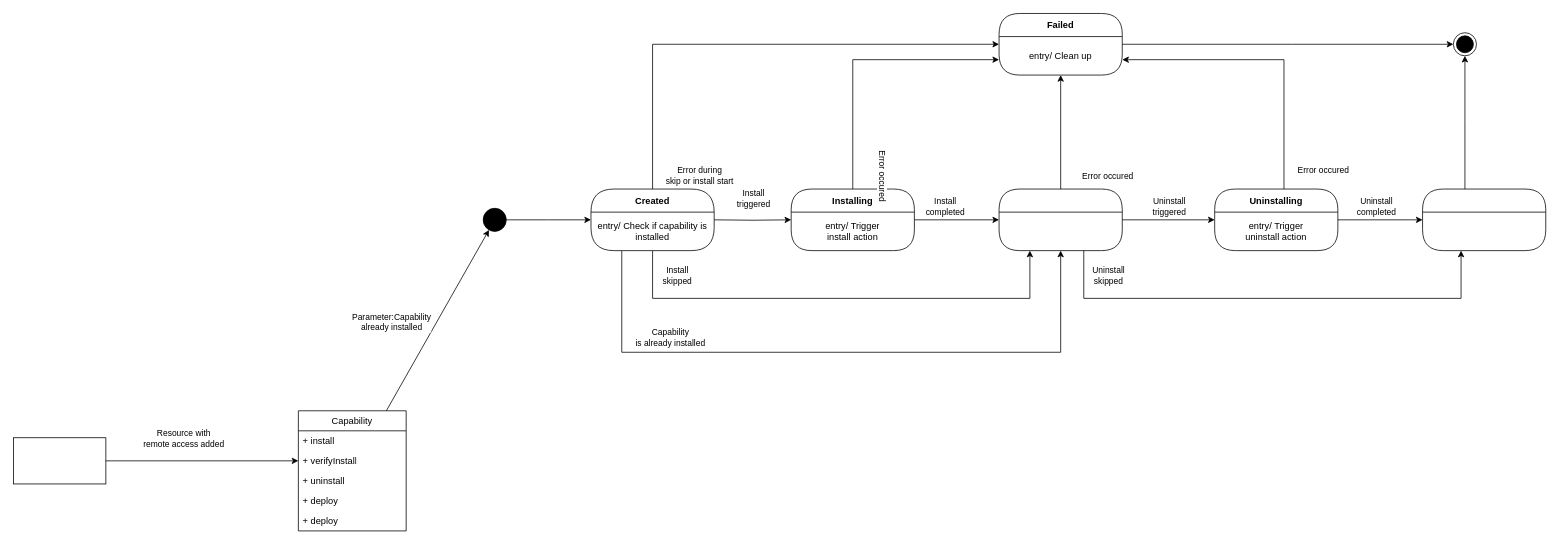
Image size: 1559x547. Some labels were removed from this diagram. The shapes that lost their labels are listed below. From the top down, each one's centre as x and y in pixels, then its label:
At point 1060,219: "Installed".
At point 1484,219: "Uninstalled".
At point 59,460: "Resource Management".
